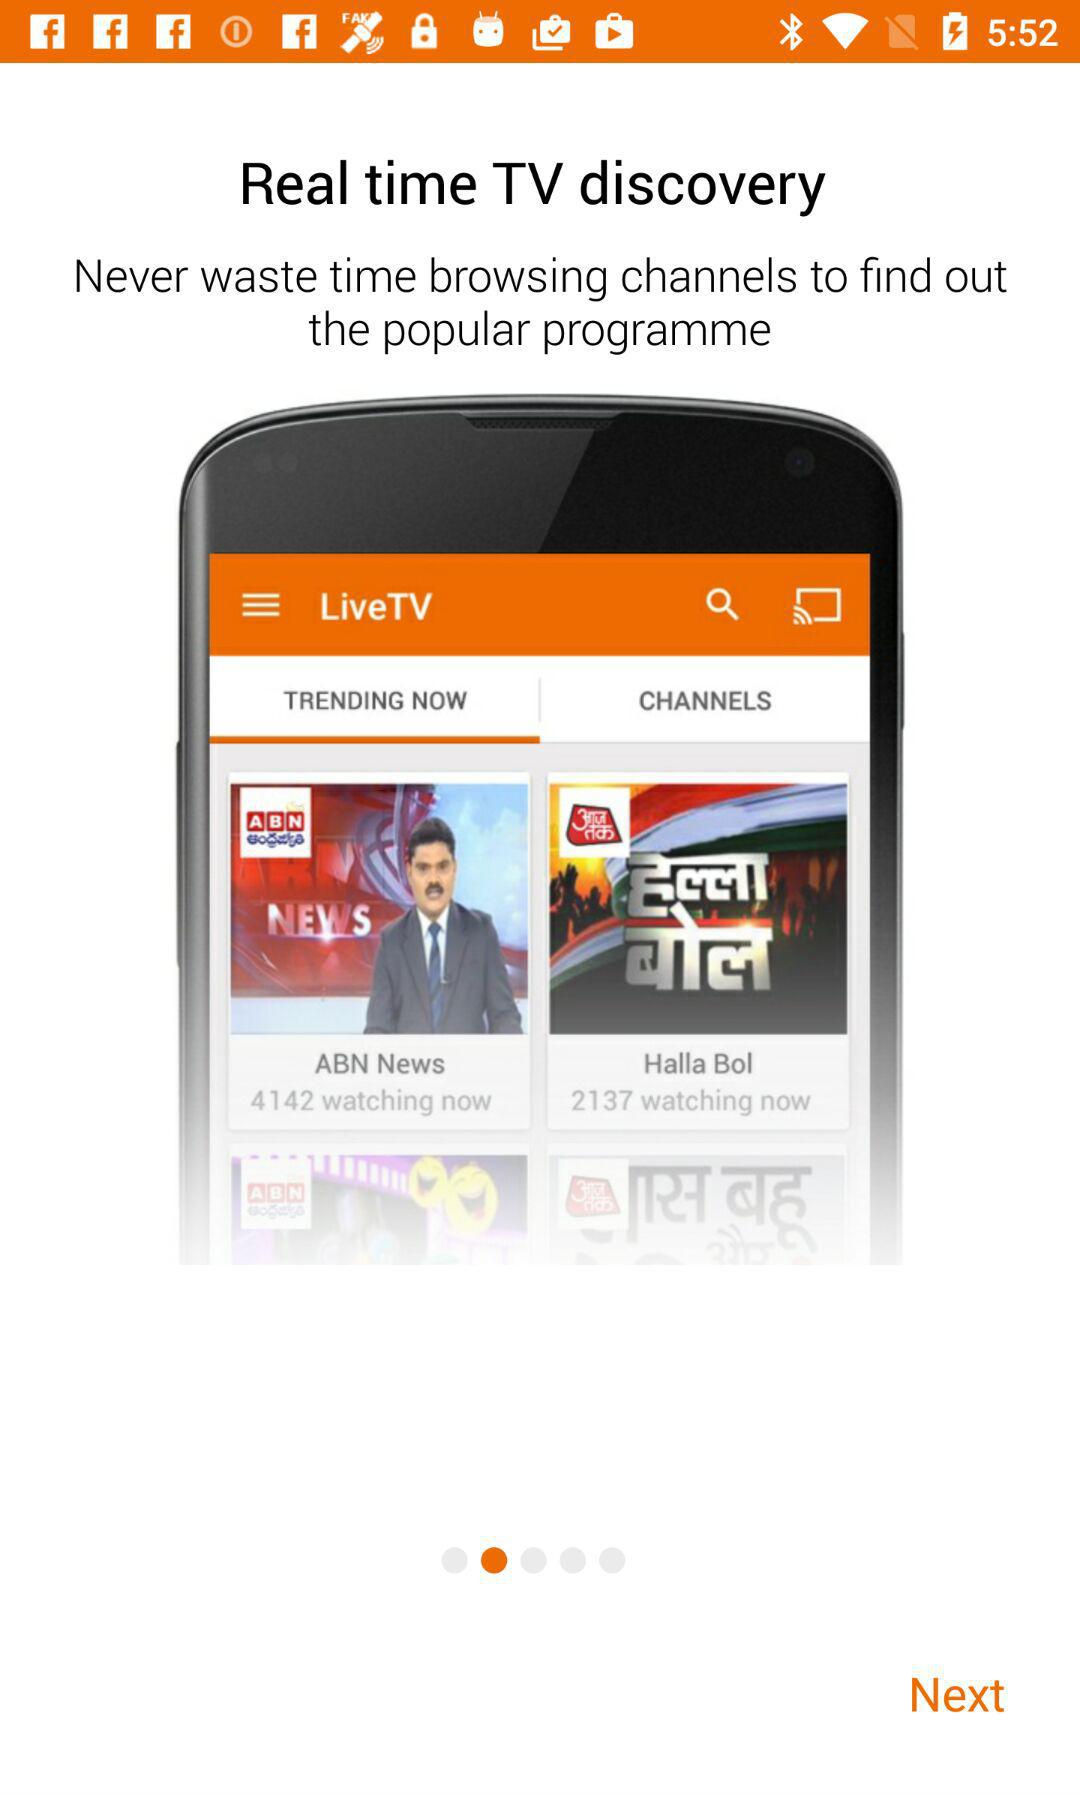Image: (173, 393, 907, 1263)
PageIndicator: (439, 1544, 628, 1576)
Text: (76, 255, 1010, 358), (242, 159, 828, 219), (910, 1676, 1006, 1715)
UpperTaskBar: (1, 1, 1080, 64)
